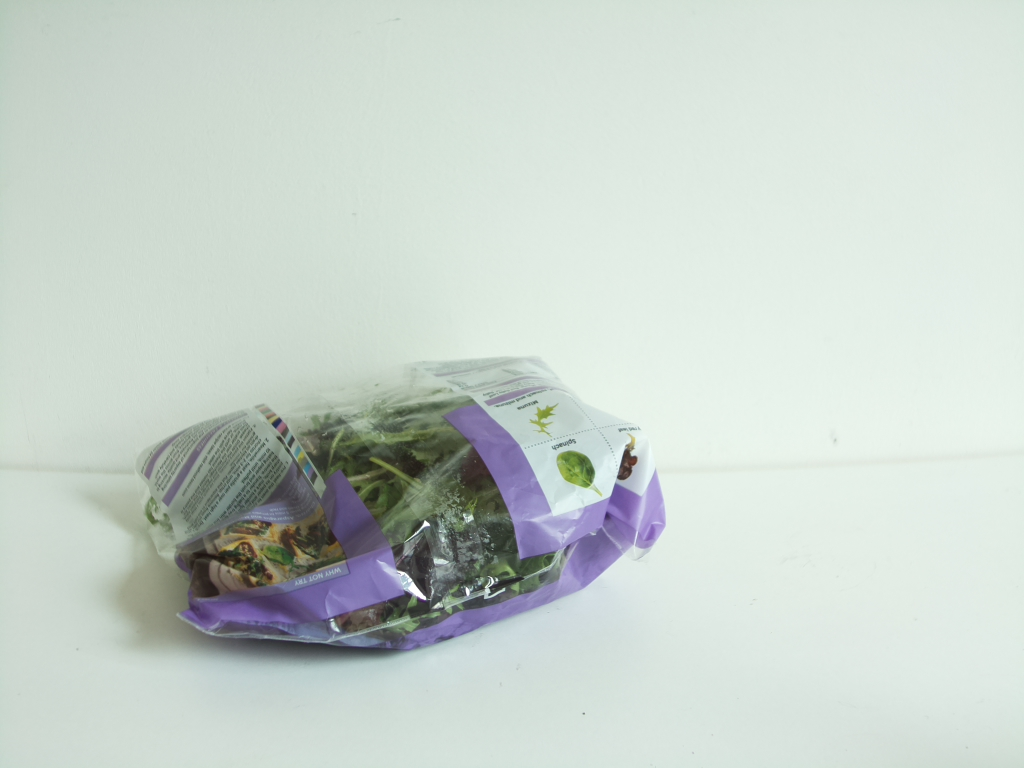salad: (142, 352, 670, 659)
